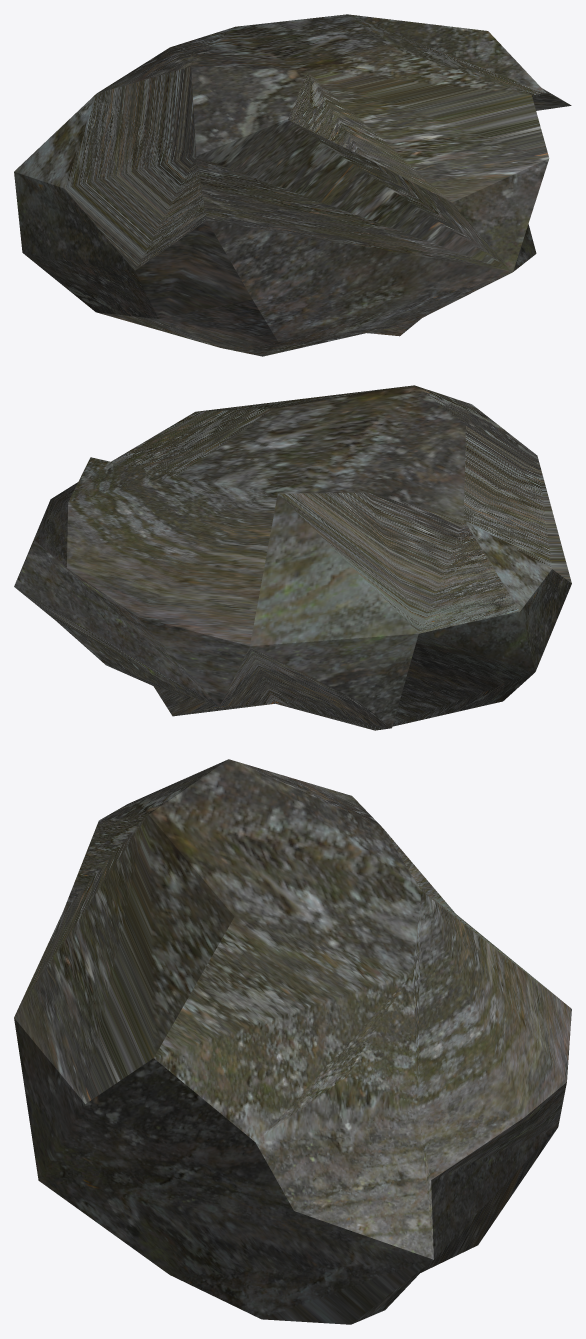
The model's file is Rock3.fbx.
The picture shows the model from 3 angles, top to bottom: view 1: azimuth 30°, elevation 25°; view 2: azimuth 150°, elevation 25°; view 3: azimuth 270°, elevation 25°; orthographic projection. The views are drawn at different scales.
Parts seen in each view (by area): view 1: Rock1; view 2: Rock1; view 3: Rock1.
Part boxes in pixels (x1=…): Rock1: x1=14, y1=14, x2=571, y2=356; Rock1: x1=14, y1=385, x2=571, y2=730; Rock1: x1=14, y1=759, x2=571, y2=1324.
Bounding box in the file's own units: 343 × 187 × 247.
1 material, 1 textured.
